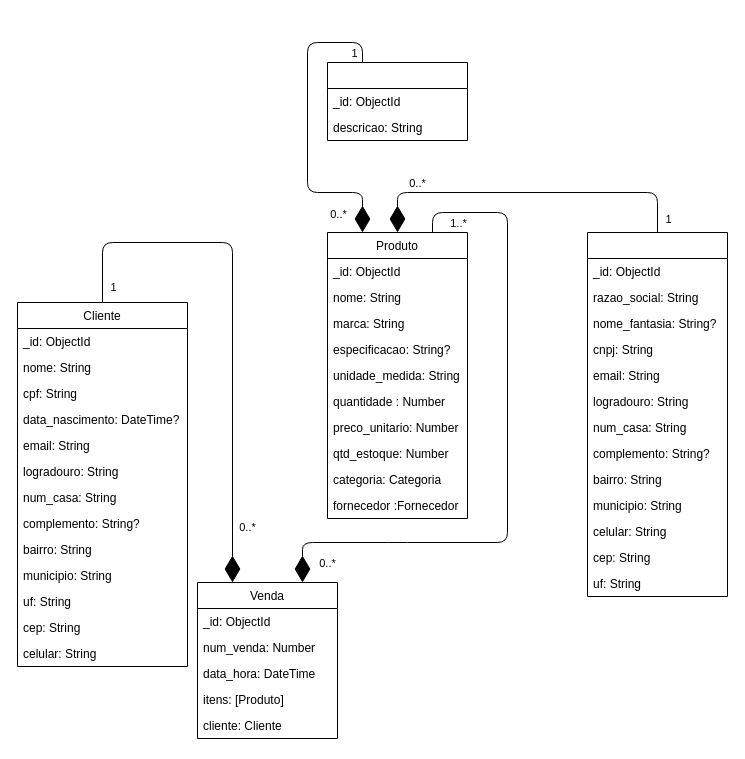
The diagram is 745 pixels wide and 759 high, and some of its shapes have lost their labels. Here are the shapes that lost their labels. From the top down, the box of each, then its label:
(326, 62, 468, 140): Categoria
(586, 232, 728, 596): Fornecedor
